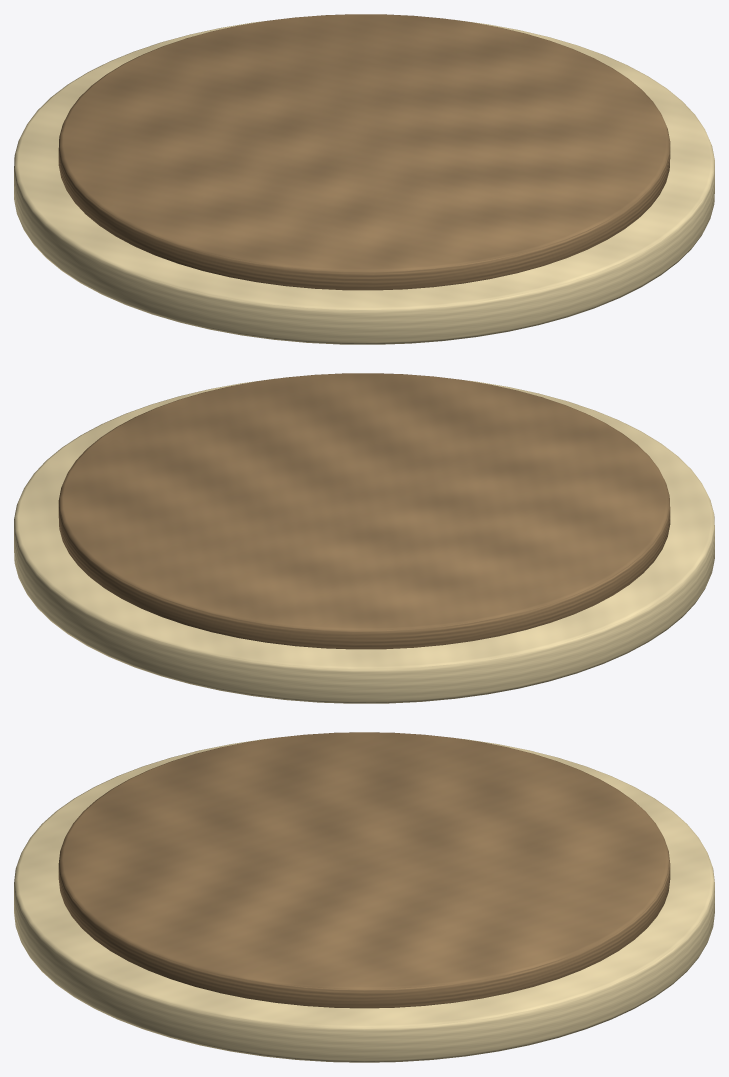
Rendered from Lighthouse_Foundation.fbx.
The picture shows the model from 3 angles, top to bottom: view 1: azimuth 30°, elevation 25°; view 2: azimuth 150°, elevation 25°; view 3: azimuth 270°, elevation 25°; orthographic projection.
Visible parts, largest first — view 1: Lighthouse_Foundation; view 2: Lighthouse_Foundation; view 3: Lighthouse_Foundation.
Part boxes in pixels (<box>): Lighthouse_Foundation: <box>14,14,714,344</box>; Lighthouse_Foundation: <box>14,373,714,703</box>; Lighthouse_Foundation: <box>14,732,714,1062</box>.
Bounding box in the file's own units: 940 × 940 × 84.
